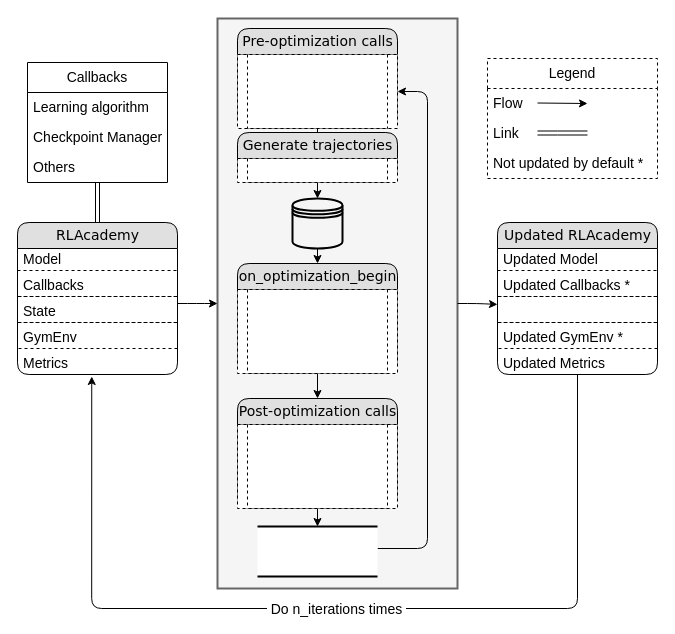
This 675x634 diagram has some shape labels left out. Each missing label, with the centre of its shape:
"- GymEnv" belongs at (x=317, y=170).
"Callbacks: - on_iteration_begin - on_train_begin - ..." belongs at (x=317, y=91).
"Callbacks: - on_optimization_end - on_batch_end - on_iteration_end - ..." belongs at (x=317, y=466).
"Data" belongs at (x=317, y=223).
"Learning algorithm optimizes model with data and trainer state." belongs at (x=317, y=331).
"Metrics values" belongs at (x=317, y=551).
"Updated State" belongs at (x=577, y=309).
